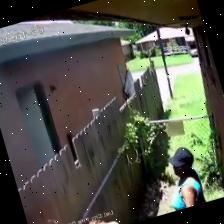person: (168, 148, 204, 210)
